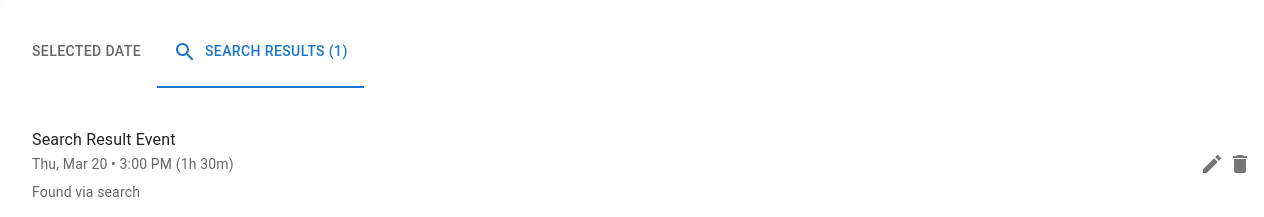
Test case: EventList Enhanced Features › switches between date and search views
Expected: the text "Search Result Event" is shown, [32, 126, 176, 154]
# Click on Selected Date tab
Click the tab "Selected Date".
click(86, 52)  # box [16, 16, 157, 88]
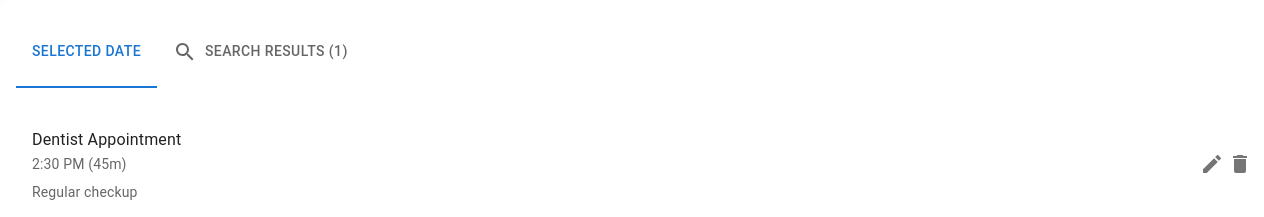
Now the text "Dentist Appointment" is shown, box [32, 126, 181, 154]
Now the text "Search Result Event" is gone
